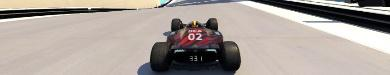Car: (149, 17, 241, 71)
obstacles-Borders: (0, 0, 173, 10)
